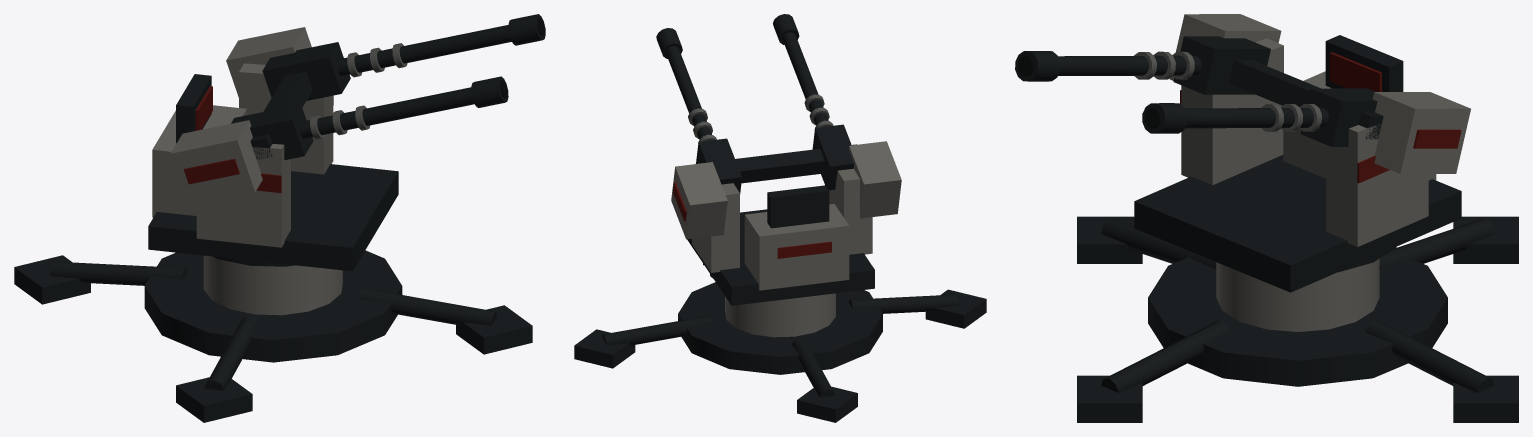
3 views of the same model, side by side, from view 1: azimuth 30°, elevation 25°; view 2: azimuth 150°, elevation 25°; view 3: azimuth 270°, elevation 25° (orthographic). The views are drawn at different scales.
Visible parts, largest first — view 1: aa-gun-auto-fleet-machine, turret-fleet-machine, turret-fleet-armor, elevation-fleet-armor, aa-barrel-right-fleet-machine, aa-gun-auto-fleet-armor, aa-barrel-left-fleet-machine, elevation-fleet-machine, radar-fleet-machine, elevation-fleet-red, aa-barrel-right-fleet-edge, aa-barrel-left-fleet-edge (+1 smaller); view 2: aa-gun-auto-fleet-machine, turret-fleet-armor, elevation-fleet-armor, turret-fleet-machine, aa-gun-auto-fleet-armor, aa-barrel-left-fleet-machine, aa-barrel-right-fleet-machine, radar-fleet-machine, elevation-fleet-machine, turret-fleet-red, aa-barrel-left-fleet-edge, aa-barrel-right-fleet-edge; view 3: aa-gun-auto-fleet-machine, turret-fleet-machine, turret-fleet-armor, elevation-fleet-armor, aa-gun-auto-fleet-armor, aa-barrel-left-fleet-machine, aa-barrel-right-fleet-machine, elevation-fleet-machine, radar-fleet-machine, radar-fleet-red, aa-barrel-left-fleet-edge, aa-barrel-right-fleet-edge (+2 smaller).
Part boxes in pixels (bbox=[...]): aa-gun-auto-fleet-machine: bbox=[14, 250, 532, 422]; turret-fleet-machine: bbox=[148, 164, 398, 271]; turret-fleet-armor: bbox=[152, 63, 333, 247]; elevation-fleet-armor: bbox=[170, 27, 311, 205]; aa-barrel-right-fleet-machine: bbox=[262, 14, 545, 100]; aa-gun-auto-fleet-armor: bbox=[203, 255, 342, 315]; aa-barrel-left-fleet-machine: bbox=[231, 76, 508, 160]; elevation-fleet-machine: bbox=[250, 71, 312, 159]; radar-fleet-machine: bbox=[176, 74, 211, 143]; elevation-fleet-red: bbox=[184, 158, 239, 184]; aa-barrel-right-fleet-edge: bbox=[347, 43, 407, 77]; aa-barrel-left-fleet-edge: bbox=[310, 105, 370, 139]; aa-gun-auto-fleet-machine: bbox=[574, 263, 986, 422]; turret-fleet-armor: bbox=[692, 168, 872, 290]; elevation-fleet-armor: bbox=[671, 141, 901, 239]; turret-fleet-machine: bbox=[687, 209, 874, 305]; aa-gun-auto-fleet-armor: bbox=[725, 293, 835, 337]; aa-barrel-left-fleet-machine: bbox=[773, 14, 854, 190]; aa-barrel-right-fleet-machine: bbox=[656, 28, 741, 193]; radar-fleet-machine: bbox=[767, 185, 829, 228]; elevation-fleet-machine: bbox=[696, 144, 856, 183]; turret-fleet-red: bbox=[777, 241, 831, 258]; aa-barrel-left-fleet-edge: bbox=[804, 94, 833, 129]; aa-barrel-right-fleet-edge: bbox=[688, 108, 716, 141]; aa-gun-auto-fleet-machine: bbox=[1077, 216, 1518, 422]; turret-fleet-machine: bbox=[1134, 155, 1461, 292]; turret-fleet-armor: bbox=[1181, 38, 1436, 246]; elevation-fleet-armor: bbox=[1169, 14, 1470, 173]; aa-gun-auto-fleet-armor: bbox=[1216, 258, 1379, 331]; aa-barrel-left-fleet-machine: bbox=[1015, 36, 1270, 94]; aa-barrel-right-fleet-machine: bbox=[1142, 88, 1377, 146]; elevation-fleet-machine: bbox=[1229, 60, 1383, 139]; radar-fleet-machine: bbox=[1325, 35, 1403, 91]; radar-fleet-red: bbox=[1329, 52, 1381, 91]; aa-barrel-left-fleet-edge: bbox=[1134, 51, 1194, 79]; aa-barrel-right-fleet-edge: bbox=[1261, 104, 1321, 131].
Size of the model in its own units: 19.28 by 14.29 by 19.13.
